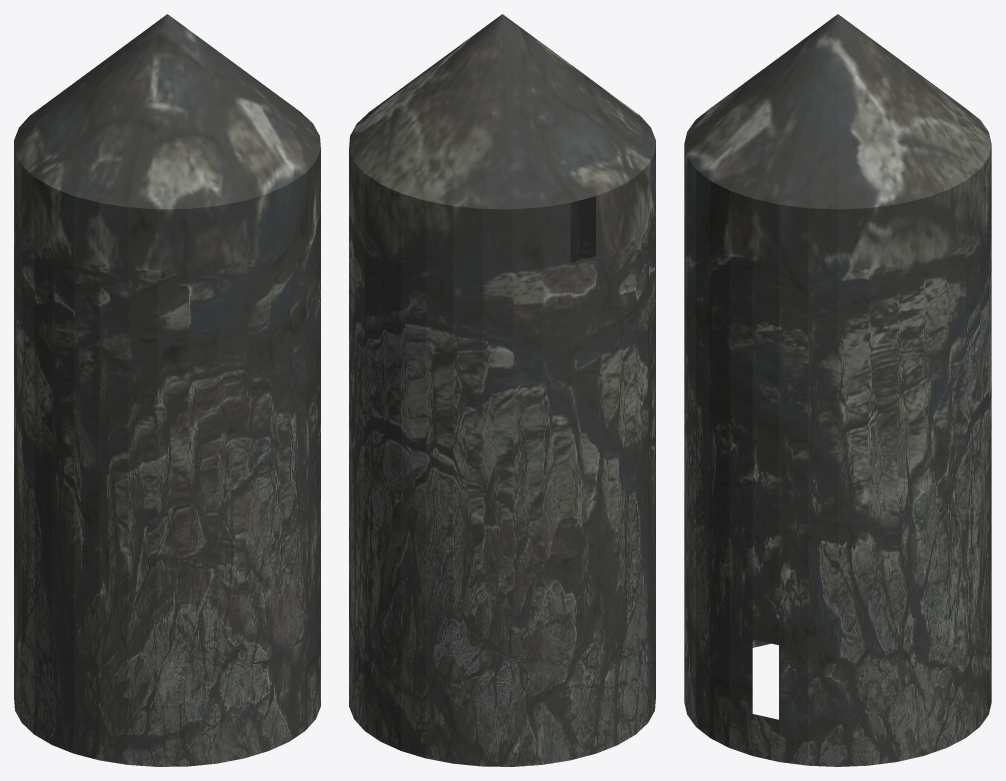
File: finalholeee.fbx
3 renders of one model, left to right at view 1: azimuth 30°, elevation 25°; view 2: azimuth 150°, elevation 25°; view 3: azimuth 270°, elevation 25°, orthographic.
Parts seen in each view (by area): view 1: Cylinder; view 2: Cylinder; view 3: Cylinder.
Boxes of the visible parts, <box> form: Cylinder: <box>14,14,320,766</box>; Cylinder: <box>349,14,655,766</box>; Cylinder: <box>684,14,991,766</box>.
Bounding box in the file's own units: 15000 × 37023 × 15000.
